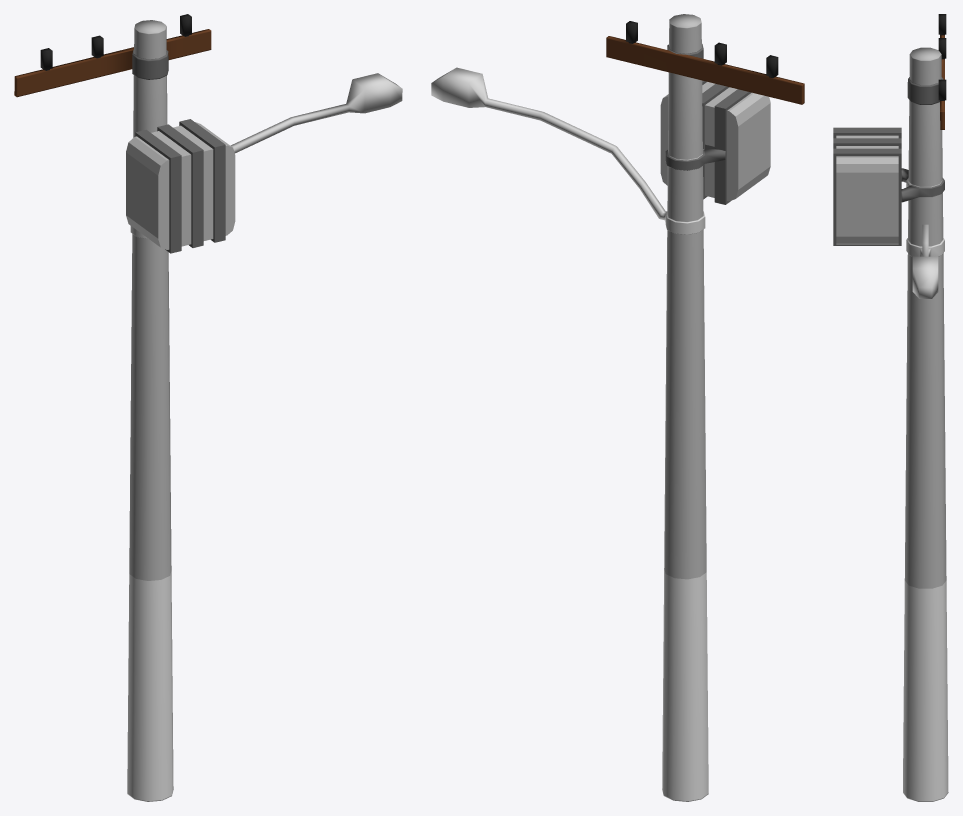
File: MESH_PROP_Poste_Trans_Luz_A.fbx
The picture shows the model from 3 angles, left to right: view 1: azimuth 30°, elevation 25°; view 2: azimuth 150°, elevation 25°; view 3: azimuth 270°, elevation 25°; orthographic projection. The views are drawn at different scales.
Visible parts, largest first — view 1: poste_trans_luz_A; view 2: poste_trans_luz_A; view 3: poste_trans_luz_A.
Boxes of the visible parts, left/top/right/bottom form: poste_trans_luz_A: left=14, top=14, right=402, bottom=801; poste_trans_luz_A: left=431, top=14, right=804, bottom=801; poste_trans_luz_A: left=833, top=14, right=948, bottom=801.
Size of the model in its own units: 256 by 500 by 70.54.
